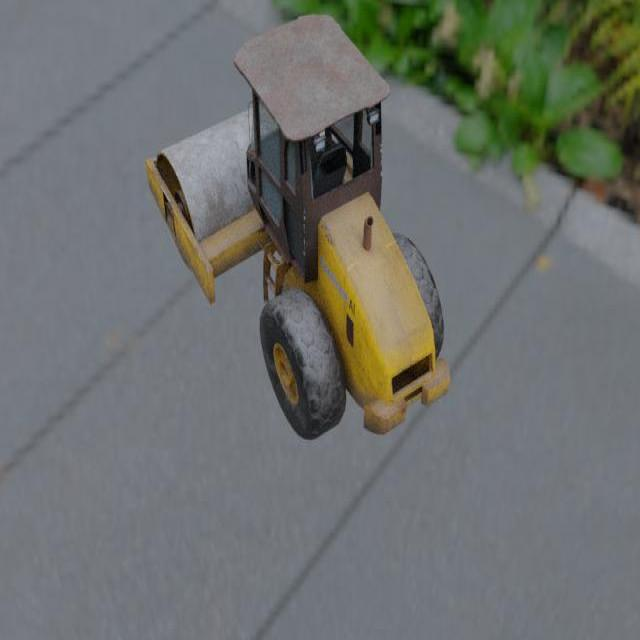Roller: (144, 13, 450, 440)
